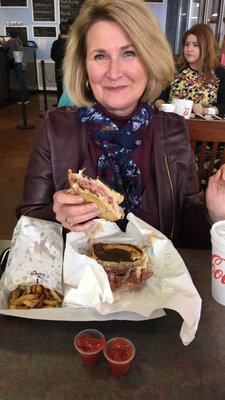pizza: (74, 329, 107, 368), (210, 221, 225, 306)
soup: (90, 232, 154, 291), (66, 169, 126, 222)
